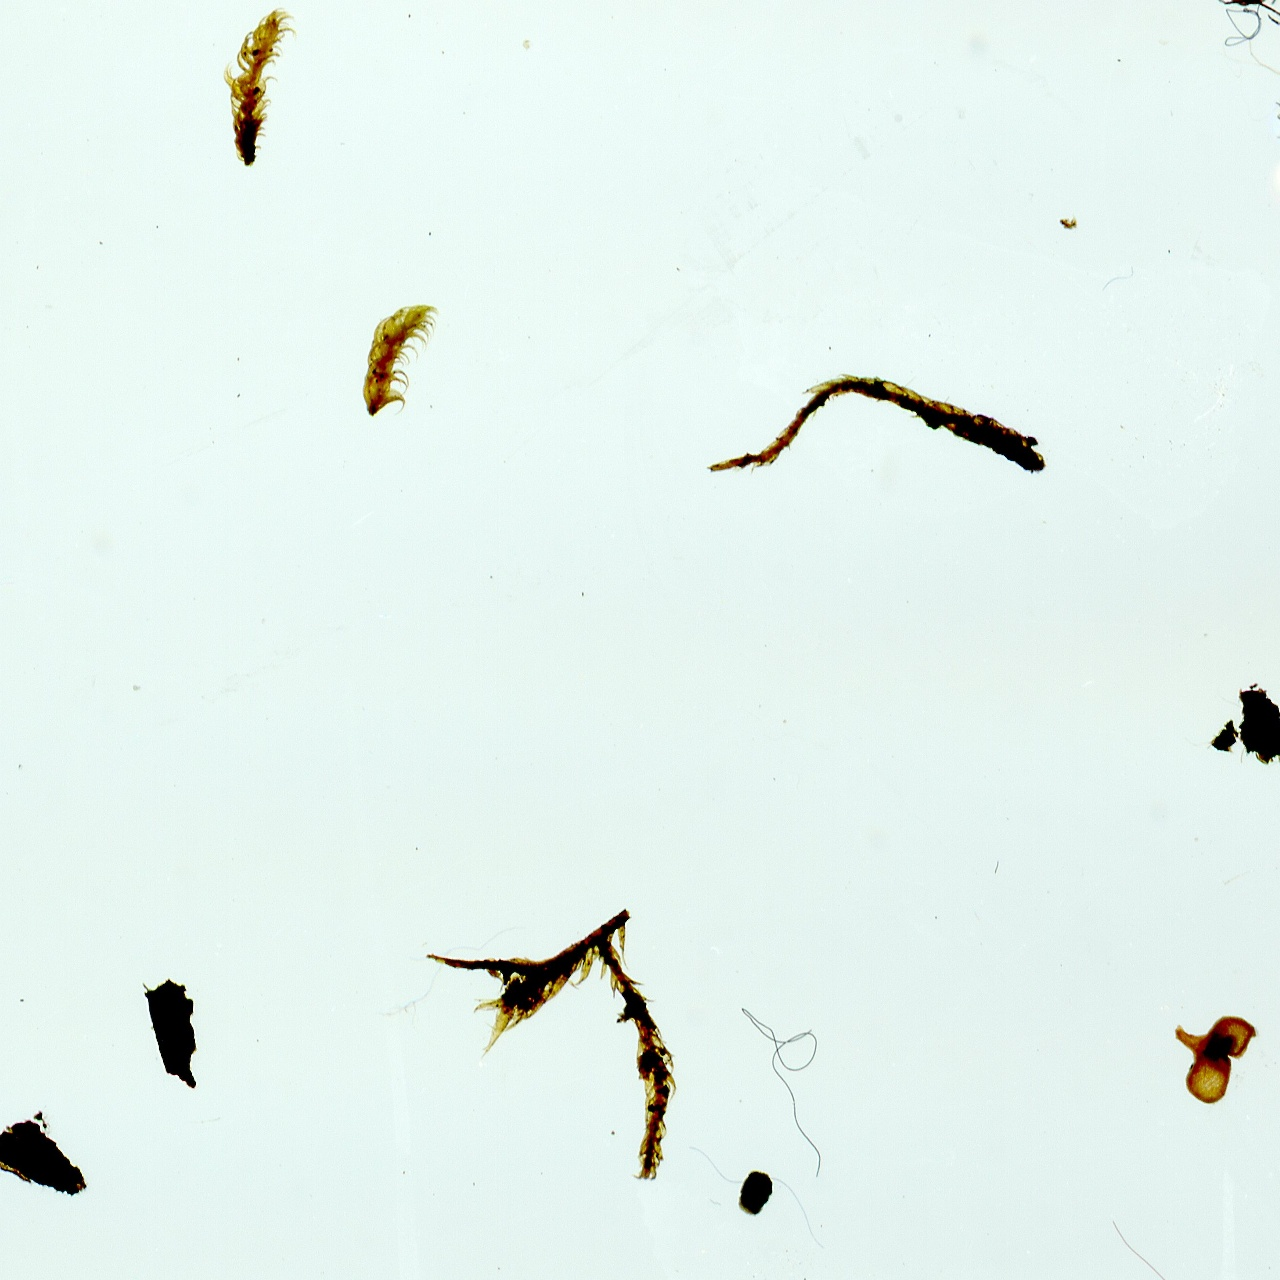arthropod: (1213, 0, 1280, 22)
